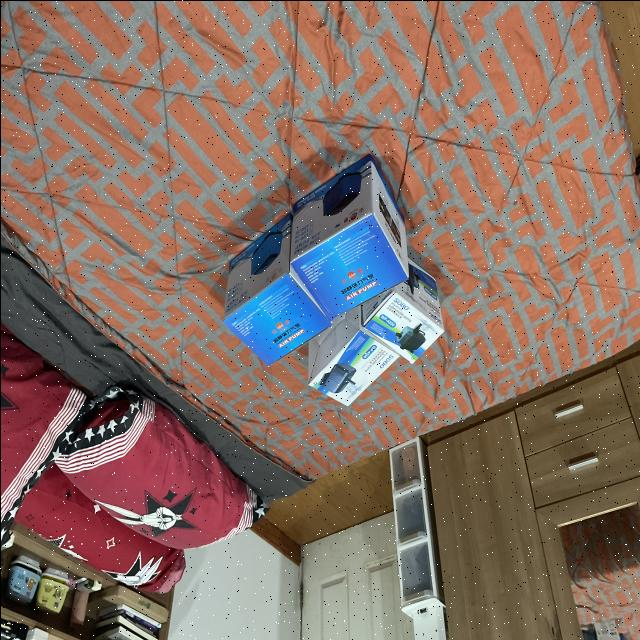SOBO_WP_4200: (308, 306, 406, 414), (360, 244, 448, 349)
YAMANO_LPP_20: (284, 138, 412, 310), (207, 200, 337, 365)
